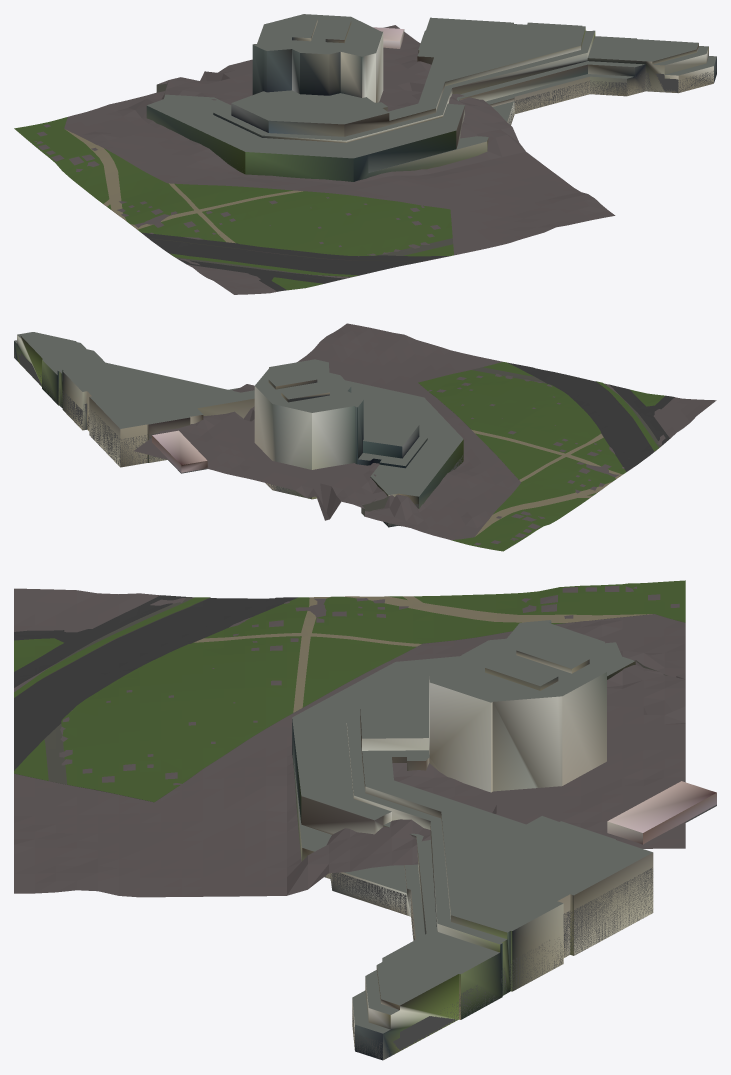
The picture shows the model from 3 angles, top to bottom: view 1: azimuth 30°, elevation 25°; view 2: azimuth 150°, elevation 25°; view 3: azimuth 270°, elevation 25°; orthographic projection. The views are drawn at different scales.
Visible parts, largest first — view 1: c_m05_m11; view 2: c_m05_m11; view 3: c_m05_m11.
Boxes of the visible parts, box(x1,y1,x2,y2) form: c_m05_m11: box(14, 14, 716, 294); c_m05_m11: box(14, 323, 716, 551); c_m05_m11: box(14, 580, 716, 1060).
Size of the model in its own units: 203 by 30.01 by 134.
